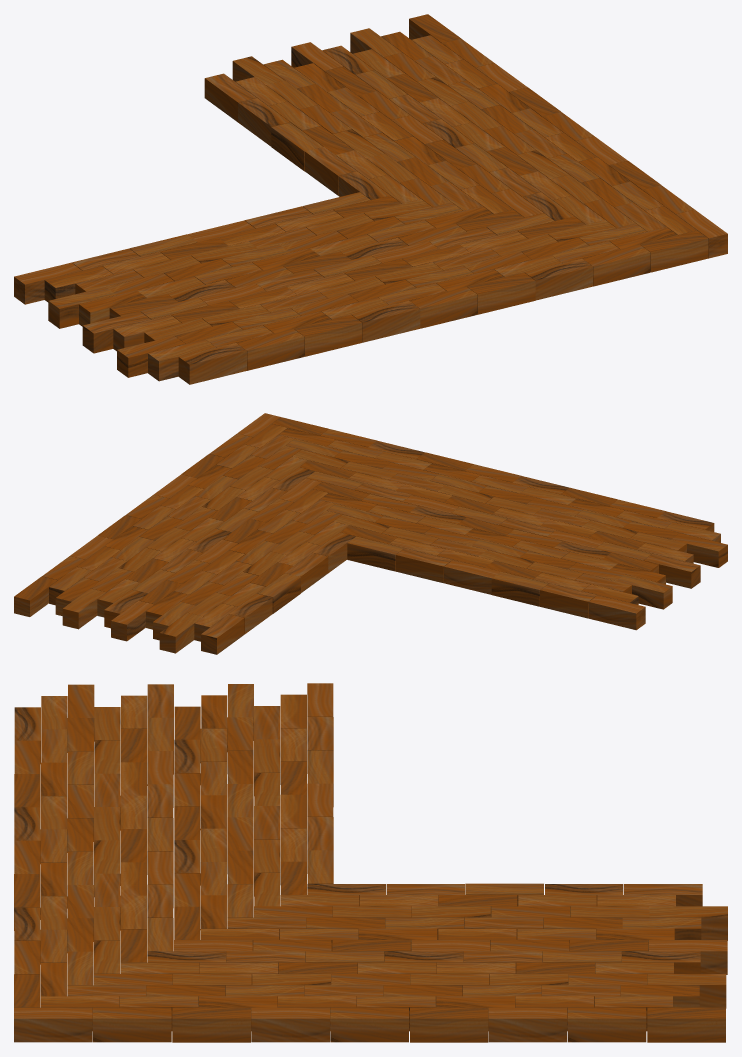
File: DiagonalContinuousBase.glb
3 renders of one model, top to bottom at view 1: azimuth 30°, elevation 25°; view 2: azimuth 150°, elevation 25°; view 3: azimuth 270°, elevation 25°, orthographic. The views are drawn at different scales.
Parts seen in each view (by area): view 1: DiagonalContinuousBase; view 2: DiagonalContinuousBase; view 3: DiagonalContinuousBase.
Part boxes in pixels (left/top/right/bottom): DiagonalContinuousBase: left=14, top=14, right=727, bottom=384; DiagonalContinuousBase: left=14, top=413, right=727, bottom=654; DiagonalContinuousBase: left=14, top=683, right=727, bottom=1042.
Bounding box in the file's own units: 12.11 × 0.4 × 10.9.
Materials: 1 (1 with a texture image).
